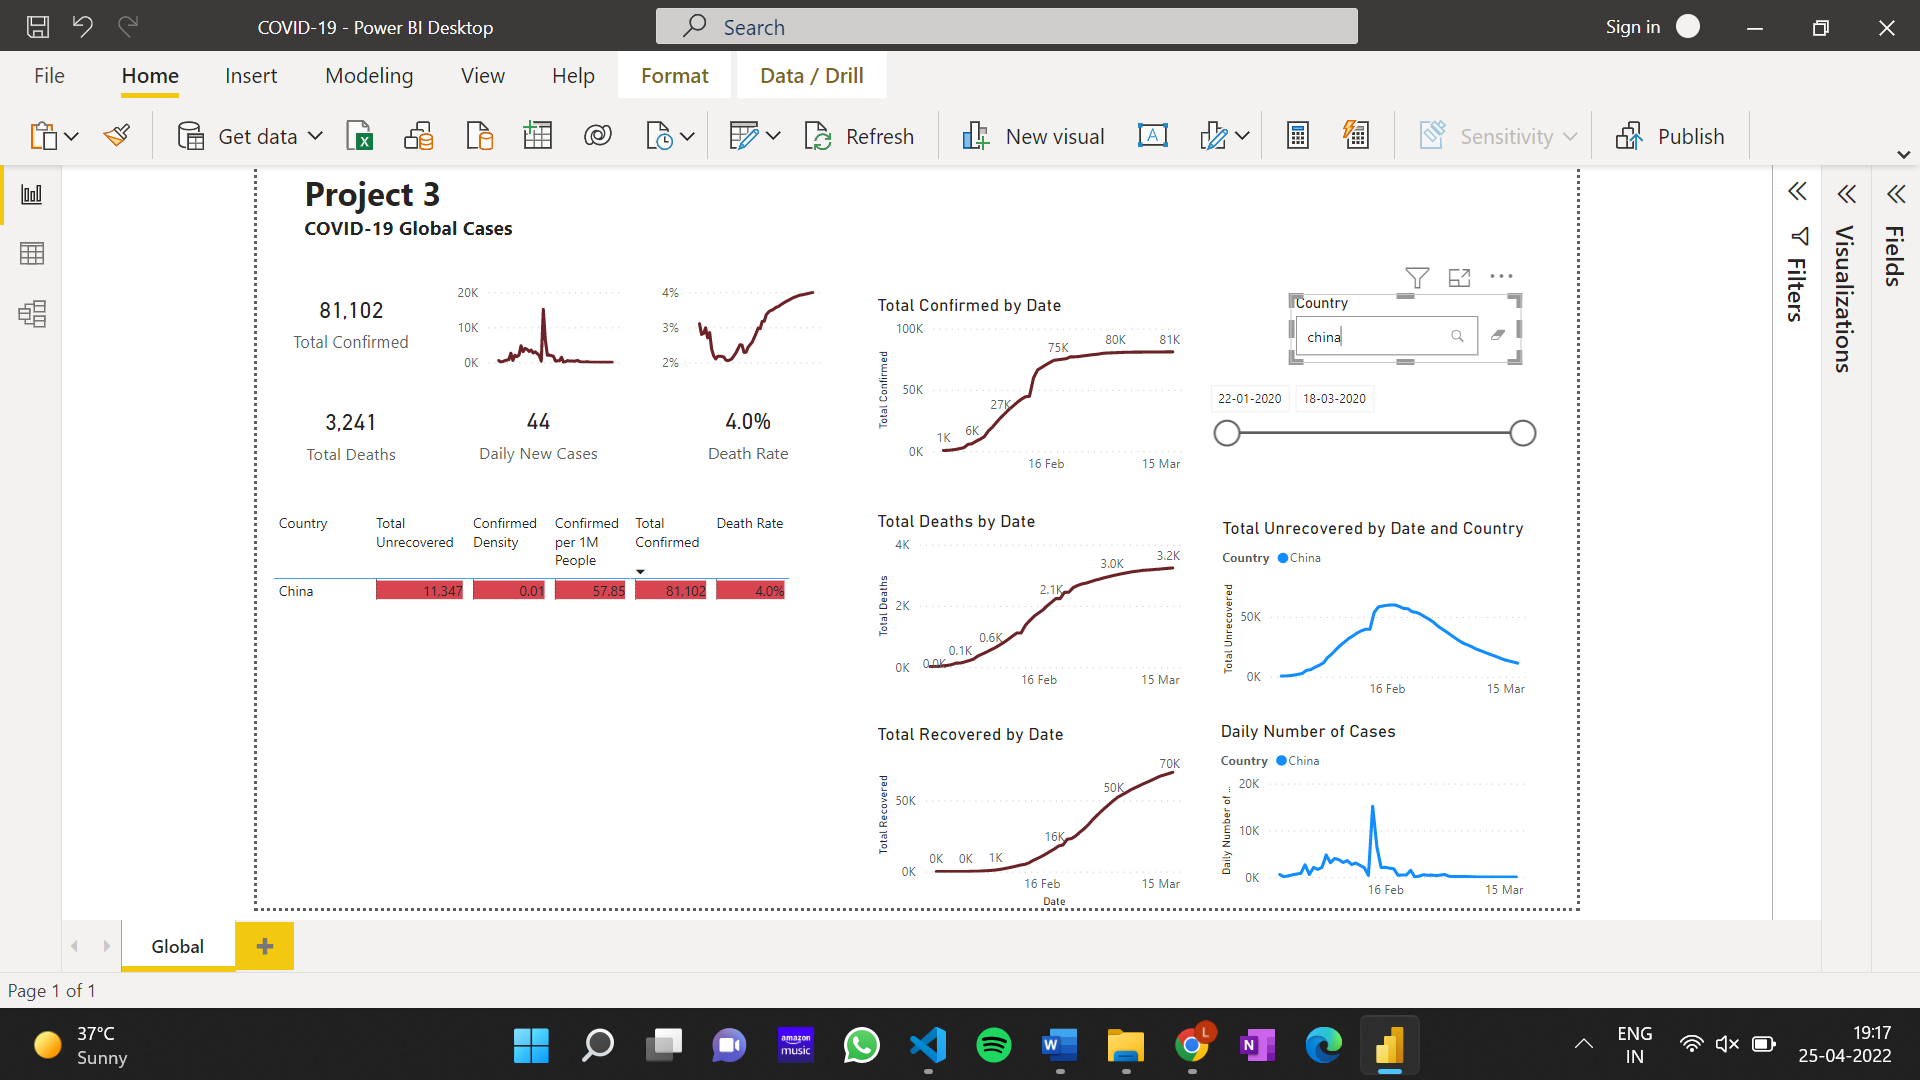

The dashboard page shown, as its layout file describes it:
{"tool":"powerbi","page":{"name":"Global","canvas":[1280,720],"ordinal":0},"visuals":[{"type":"lineChart","fields":{"Y":["Covid-19 Cases.Total Recovered"],"Category":["Calendar.Date"]},"box":[596.4,540.4,315.6,183.1],"z":0},{"type":"textbox","box":[70,20.4,380,67.1],"z":1000},{"type":"lineChart","fields":{"Y":["Covid-19 Cases.Total Confirmed"],"Category":["Calendar.Date"]},"box":[596.4,125.3,315.6,182.2],"z":2000},{"type":"lineChart","fields":{"Y":["Covid-19 Cases.Total Deaths"],"Category":["Calendar.Date"]},"box":[596.4,334.2,315.6,182.2],"z":3000},{"type":"lineChart","title":"Daily Number of Cases","fields":{"Series":["World Population.Country"],"Y":["Covid-19 Cases.Recovery Rate"],"Category":["Calendar.Date"]},"box":[929.8,537.8,315.6,182.2],"z":5000},{"type":"textFilter25A4896A83E0487089E2B90C9AE57C8A","fields":{"field":["World Population.Country"]},"box":[1001.5,124.6,224.9,68],"z":6000},{"type":"slicer","fields":{"Values":["Covid-19 Cases.Date"]},"box":[912.5,203.9,336.5,90.6],"z":7000},{"type":"lineChart","fields":{"Series":["World Population.Country"],"Y":["Covid-19 Cases.Total Unrecovered"],"Category":["Calendar.Date"]},"box":[930.3,341.4,315.5,184.4],"z":8000},{"type":"tableEx","fields":{"Values":["World Population.Country","Covid-19 Cases.Total Unrecovered","Covid-19 Cases.Confirmed per Pop. Density","Covid-19 Cases.Confirmed per Capita","Covid-19 Cases.Total Confirmed","Covid-19 Cases.Death Rate"]},"box":[9.8,331.6,544,388.4],"z":9000},{"type":"card","fields":{"Values":["Covid-19 Cases.Total Confirmed"]},"box":[16,109.3,150.2,82.7],"z":10000},{"type":"card","fields":{"Values":["Covid-19 Cases.Daily Number of Cases"]},"box":[198.3,216.7,149.7,83.6],"z":11000},{"type":"card","fields":{"Values":["Covid-19 Cases.Total Deaths"]},"box":[16.5,217.7,150.6,81.6],"z":12000},{"type":"card","fields":{"Values":["Covid-19 Cases.Death Rate"]},"box":[401.4,216.7,148.7,83.6],"z":13000},{"type":"image","box":[0,9.7,70,77.8],"z":15000},{"type":"lineChart","title":"Daily Number of Cases","fields":{"Y":["Covid-19 Cases.Recovery Rate"],"Category":["Calendar.Date"]},"box":[188.5,108.9,170.1,96.2],"z":16000},{"type":"lineChart","title":"Daily Number of Cases","fields":{"Y":["Covid-19 Cases.Death Rate"],"Category":["Calendar.Date"]},"box":[386.8,108.9,167.2,96.2],"z":17000}]}

Visuals, with their boxes on the page's 1280x720 design canvas (x1, y1, x2, y2). These are canvas units, not pixel positions in the 1920x1080 screenshot, which may show the page scaled, cropped or inside an application window:
lineChart - Covid-19 Cases.Total Recovered x Calendar.Date: crop(596, 540, 912, 724)
textbox: crop(70, 20, 450, 88)
lineChart - Covid-19 Cases.Total Confirmed x Calendar.Date: crop(596, 125, 912, 308)
lineChart - Covid-19 Cases.Total Deaths x Calendar.Date: crop(596, 334, 912, 516)
"Daily Number of Cases" lineChart: crop(930, 538, 1245, 720)
textFilter25A4896A83E0487089E2B90C9AE57C8A - World Population.Country: crop(1002, 125, 1226, 193)
slicer - Covid-19 Cases.Date: crop(912, 204, 1249, 294)
lineChart - World Population.Country x Covid-19 Cases.Total Unrecovered: crop(930, 341, 1246, 526)
tableEx - World Population.Country x Covid-19 Cases.Total Unrecovered: crop(10, 332, 554, 720)
card - Covid-19 Cases.Total Confirmed: crop(16, 109, 166, 192)
card - Covid-19 Cases.Daily Number of Cases: crop(198, 217, 348, 300)
card - Covid-19 Cases.Total Deaths: crop(16, 218, 167, 299)
card - Covid-19 Cases.Death Rate: crop(401, 217, 550, 300)
image: crop(0, 10, 70, 88)
"Daily Number of Cases" lineChart: crop(188, 109, 359, 205)
"Daily Number of Cases" lineChart: crop(387, 109, 554, 205)
